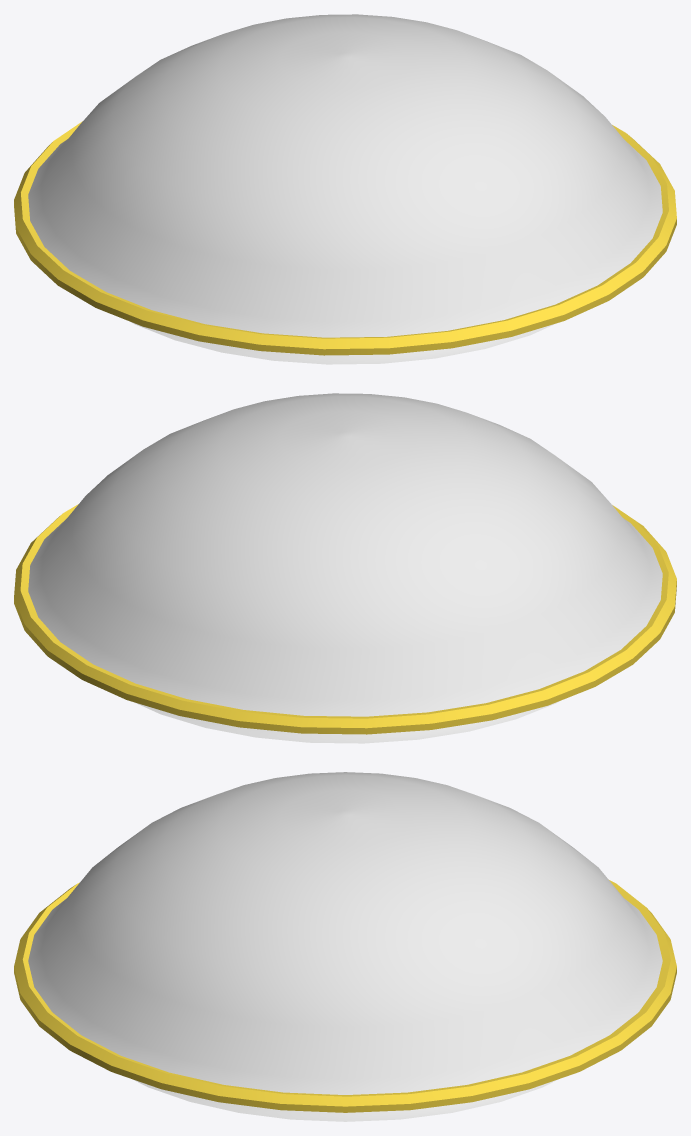
The model's file is roof_big_01.fbx.
3 views of the same model, one above another, from view 1: azimuth 30°, elevation 25°; view 2: azimuth 150°, elevation 25°; view 3: azimuth 270°, elevation 25° (orthographic).
Parts seen in each view (by area): view 1: roof_big; view 2: roof_big; view 3: roof_big.
Boxes of the visible parts, x1,y1,x2,y2 form: roof_big: (14,14,676,364); roof_big: (14,393,676,743); roof_big: (14,772,676,1121).
Size of the model in its own units: 371 by 118 by 371.
